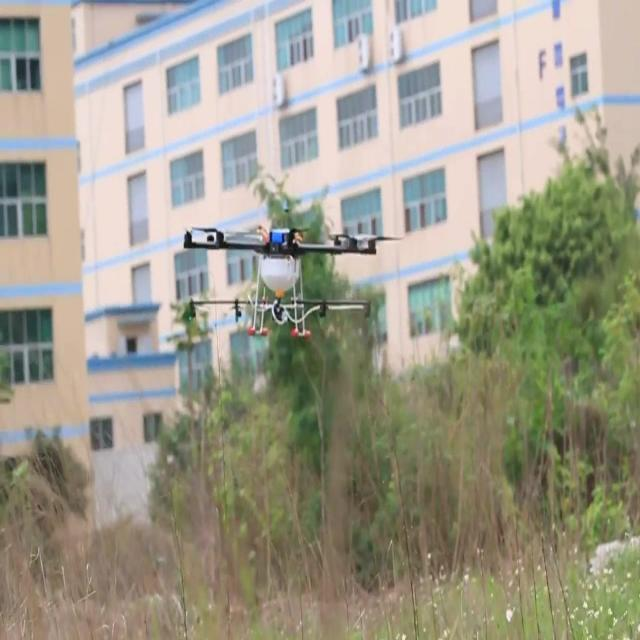UAV: (184, 228, 402, 339)
